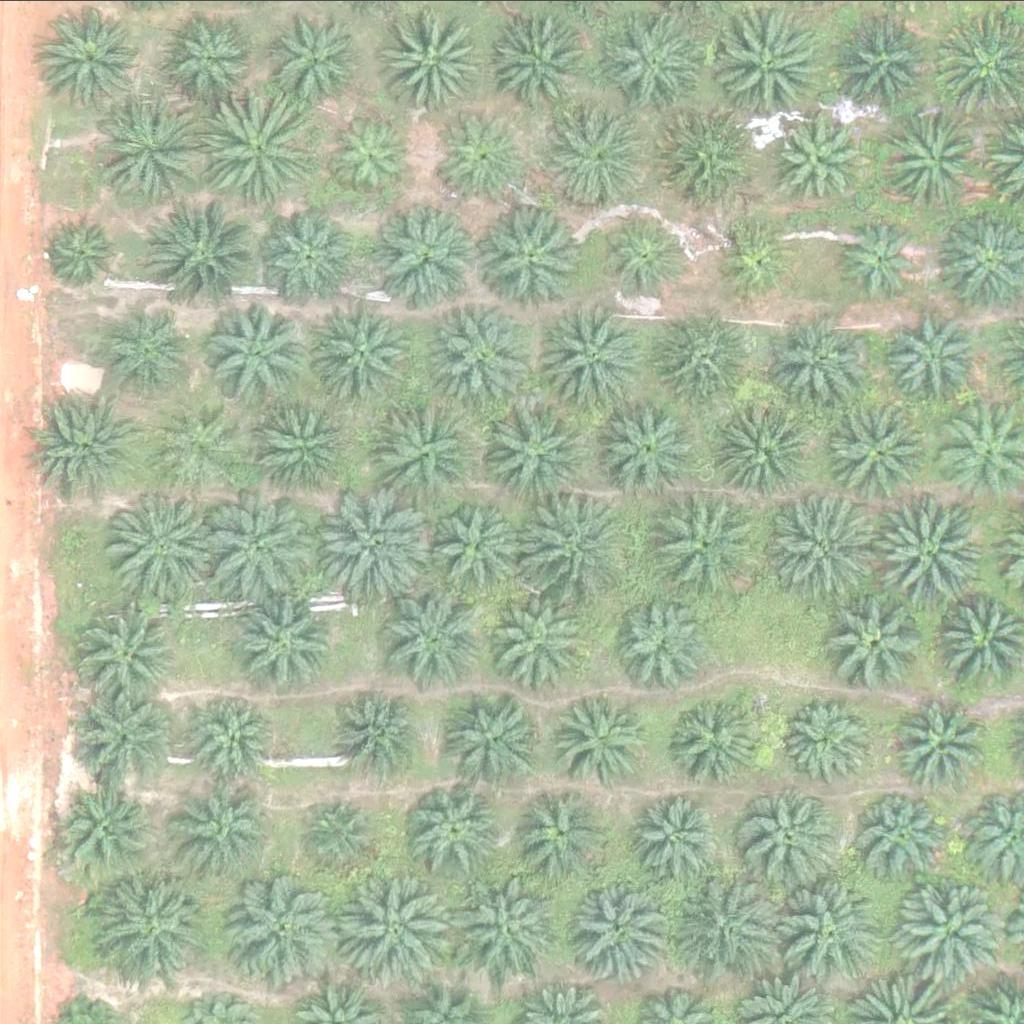Kelapa_Sawit: (345, 875, 459, 988), (774, 873, 888, 986), (103, 486, 217, 599), (520, 489, 634, 602), (656, 485, 770, 598), (154, 196, 268, 309), (228, 875, 341, 988), (668, 870, 781, 983), (323, 490, 436, 603), (768, 492, 881, 605), (369, 392, 482, 505), (32, 388, 145, 501), (103, 86, 216, 199), (710, 14, 823, 127), (875, 489, 988, 602), (894, 877, 1007, 990), (206, 87, 320, 199), (95, 873, 208, 985), (210, 485, 323, 597), (479, 393, 592, 505), (422, 295, 535, 407), (537, 299, 650, 411), (537, 95, 650, 207), (465, 879, 566, 979), (574, 877, 675, 977), (509, 779, 610, 879), (60, 772, 161, 872), (554, 690, 655, 790), (825, 590, 926, 690), (618, 595, 719, 695), (493, 592, 594, 692), (385, 584, 486, 684), (235, 590, 336, 690), (76, 603, 177, 703), (432, 499, 533, 599), (713, 394, 814, 494), (596, 394, 697, 494), (251, 396, 352, 496), (316, 305, 417, 405), (660, 310, 761, 410), (769, 305, 870, 405), (480, 207, 581, 307), (656, 95, 757, 195), (46, 7, 147, 107), (391, 12, 492, 112), (603, 13, 704, 113), (832, 22, 933, 122), (884, 110, 985, 210), (736, 779, 836, 879), (404, 780, 504, 880), (78, 684, 178, 784), (331, 679, 431, 779), (447, 686, 547, 786), (668, 686, 768, 786), (857, 787, 957, 887), (827, 398, 927, 498), (209, 294, 309, 394), (257, 207, 357, 307), (378, 205, 478, 305), (489, 7, 589, 107), (891, 693, 991, 793), (778, 695, 866, 783), (106, 304, 194, 392), (708, 213, 796, 301), (595, 213, 683, 301), (776, 118, 864, 206), (328, 104, 416, 192), (893, 315, 981, 403), (186, 688, 275, 775), (157, 401, 246, 488), (634, 796, 722, 883), (185, 785, 273, 872), (840, 219, 928, 306), (439, 110, 527, 197), (167, 16, 255, 103), (274, 12, 362, 99), (307, 796, 383, 871), (47, 214, 122, 289)
